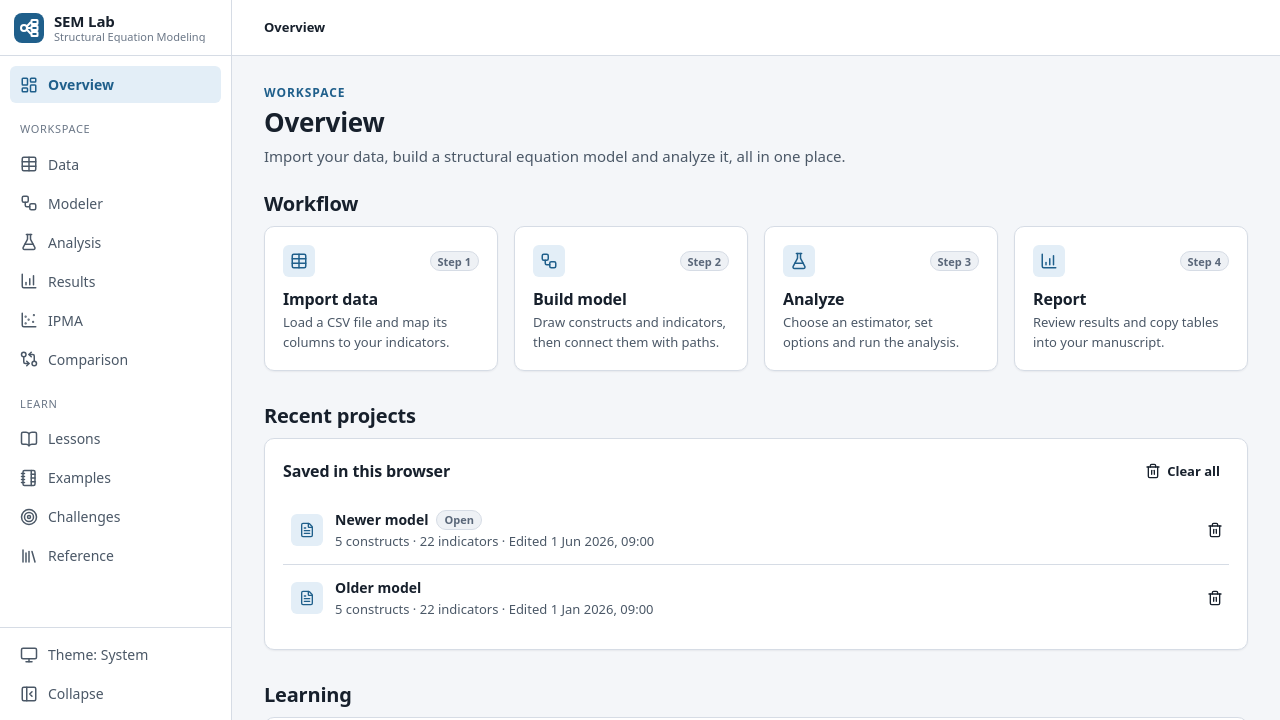
Overview recent projects › deletes after confirmation and clears the Modeler if that project was open
Click the button named "Delete Newer model" at (1215,530), box [1201,516,1229,544]
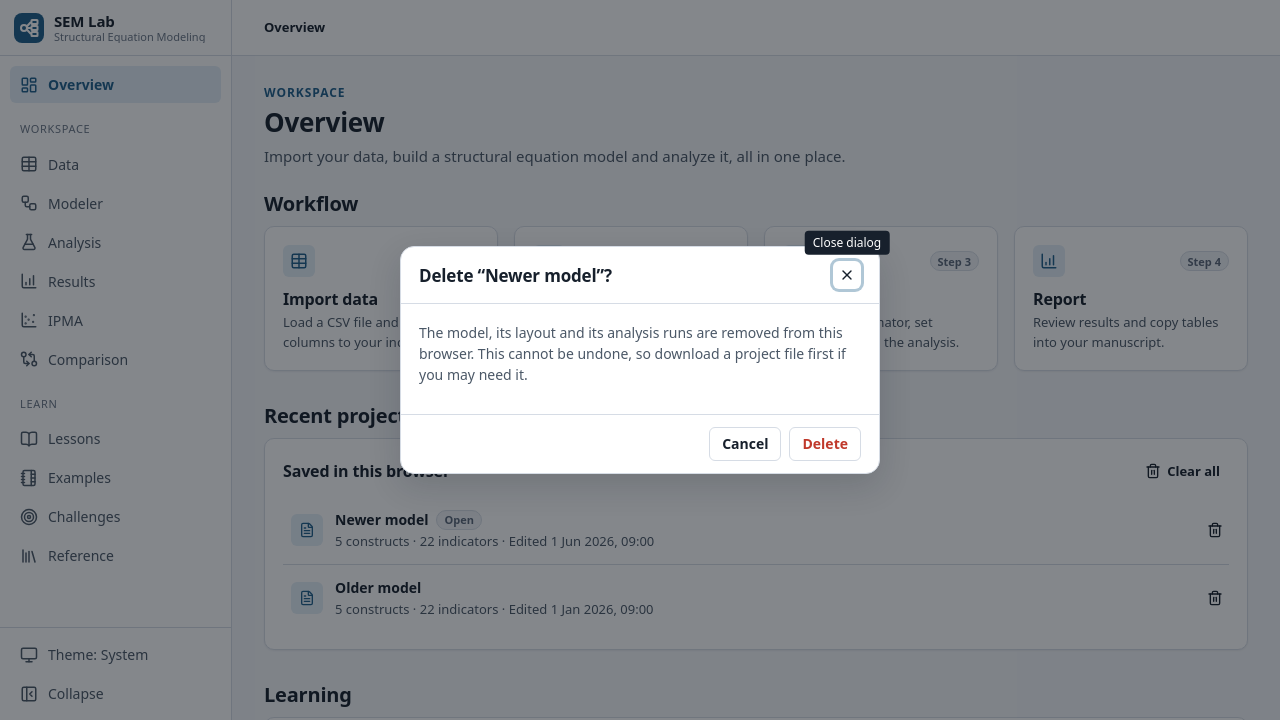
Click the button "Delete" at (825,444), box [790,427,861,461]
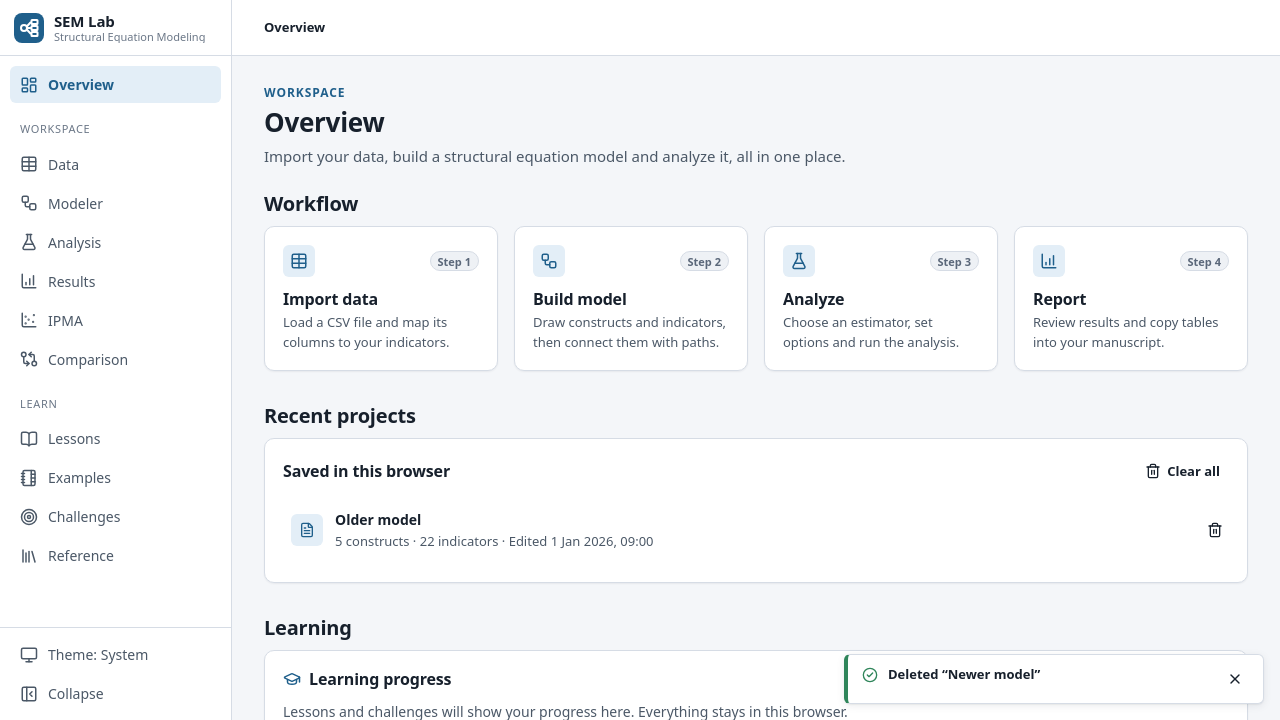
expect the number of list items is 1: met, box [283,497,1229,564]
